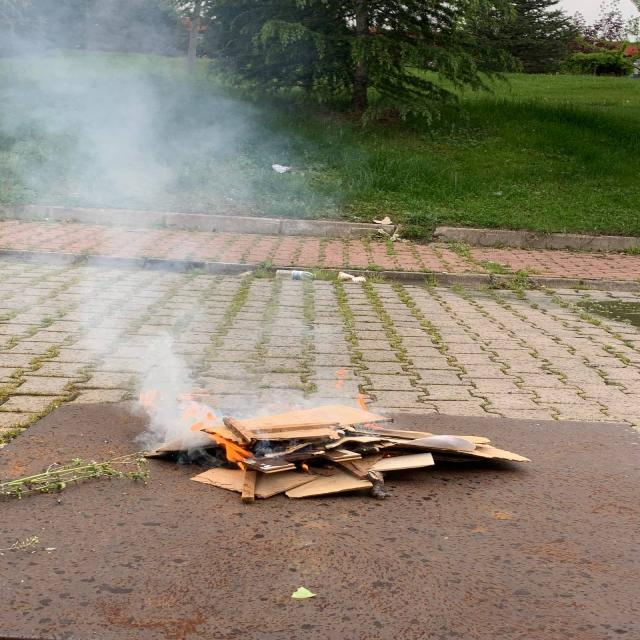fire: (177, 398, 249, 486), (327, 359, 385, 432)
